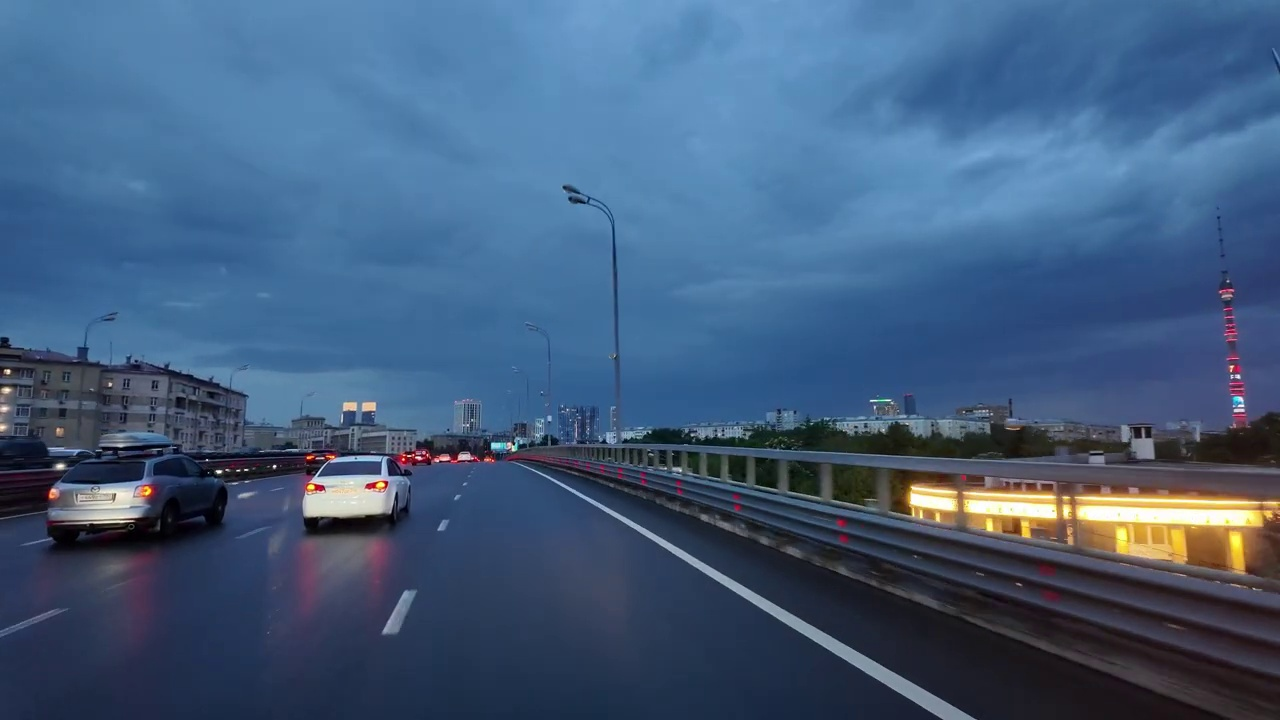apagada: (554, 179, 591, 211)
